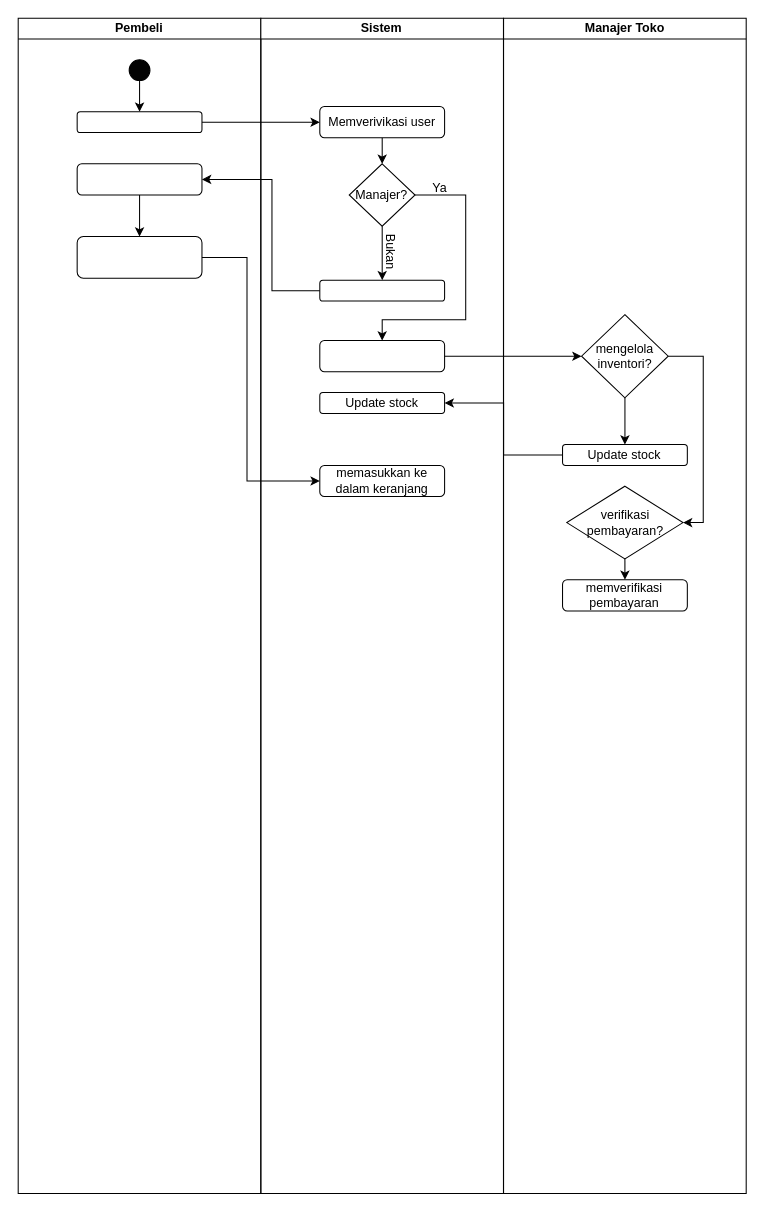
Some shapes in this 764 by 1212 pixel diagram are drawn without their labels. The shapes that lost their labels are listed below. From the top down, each one's centre as x and y in pixels, then its label:
[139,122]: login
[139,179]: mencari produk yang diinginkan
[139,257]: membeli produk yang dipilih
[382,290]: Redirect ke katalog
[382,356]: Redirect ke sistem manajemen
